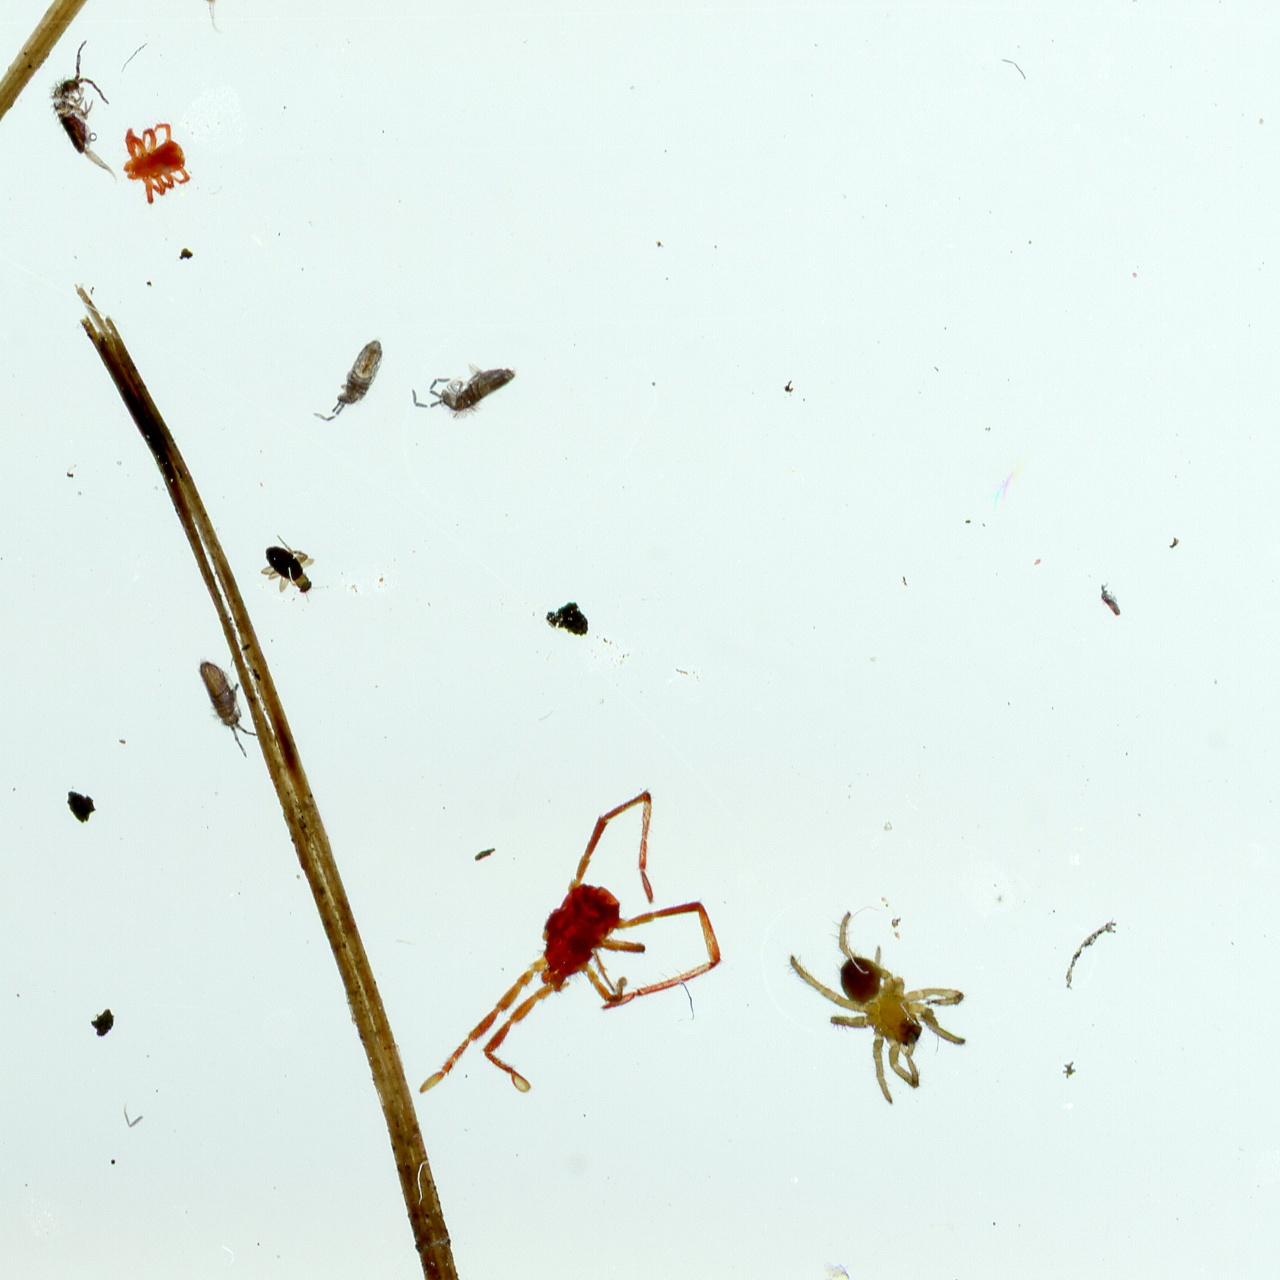arthropod: (382, 767, 785, 1197), (768, 874, 1002, 1117), (179, 639, 273, 768), (43, 35, 122, 183), (401, 347, 535, 431), (243, 520, 340, 619), (115, 120, 202, 207), (311, 338, 392, 427), (147, 0, 225, 30), (1090, 576, 1133, 627), (922, 1271, 986, 1280)
